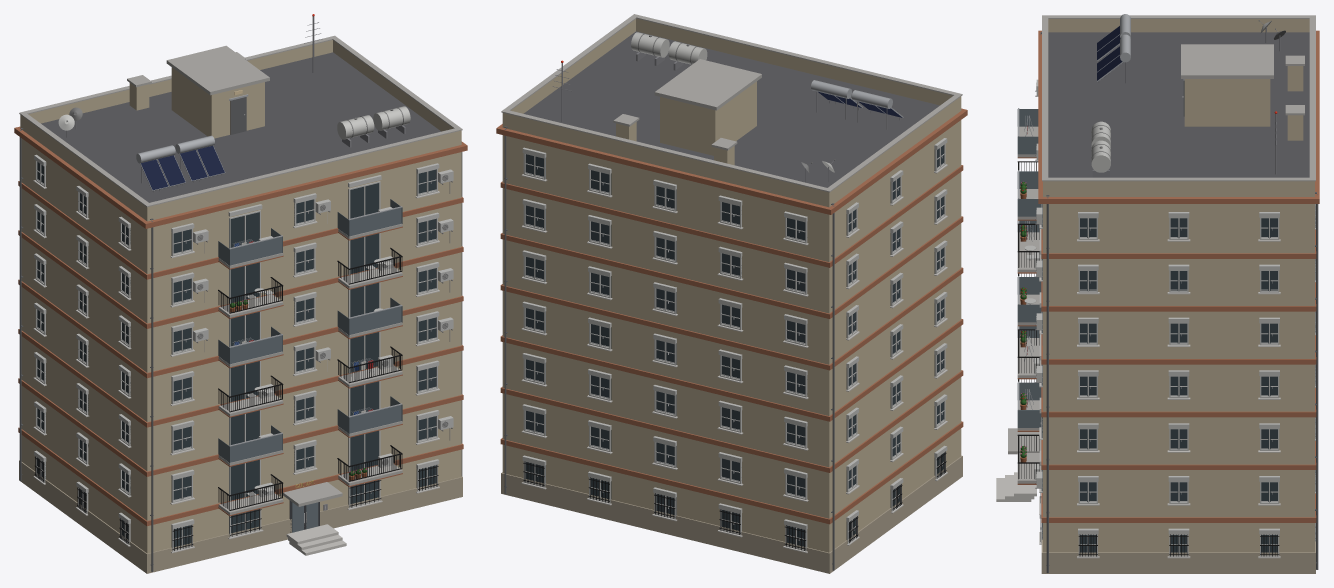
The model's file is apartman.glb.
3 views of the same model, side by side, from view 1: azimuth 30°, elevation 25°; view 2: azimuth 150°, elevation 25°; view 3: azimuth 270°, elevation 25° (orthographic). The views are drawn at different scales.
Parts seen in each view (by area): view 1: Apartman; view 2: Apartman; view 3: Apartman.
Boxes of the visible parts, x1,y1,x2,y2 form: Apartman: [14, 14, 467, 573]; Apartman: [496, 14, 967, 573]; Apartman: [996, 14, 1319, 573].
Bounding box in the file's own units: 20.49 × 25.1 × 16.64.
